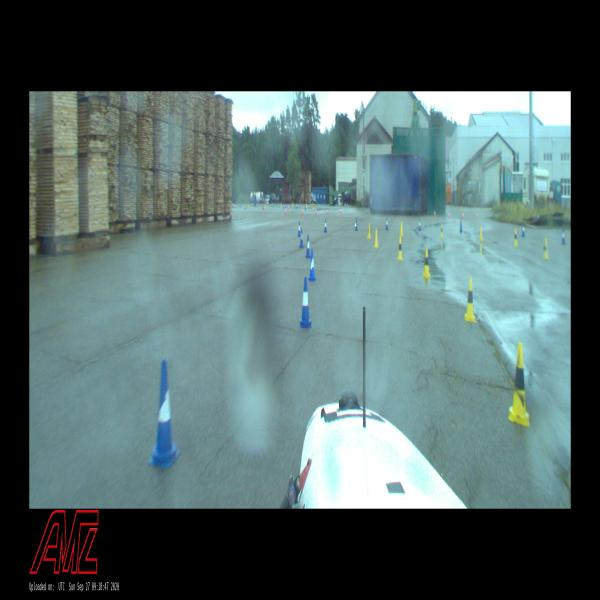blue_cone: (148, 360, 181, 467), (300, 278, 312, 327), (308, 249, 316, 281), (306, 234, 311, 258), (300, 228, 304, 248), (354, 218, 358, 231), (521, 223, 525, 235), (562, 229, 565, 243), (324, 219, 327, 232), (418, 219, 421, 231), (298, 222, 300, 236), (460, 220, 462, 233), (386, 218, 388, 228)
orange_cone: (301, 208, 304, 215), (434, 210, 436, 218), (340, 207, 342, 215), (315, 208, 317, 215), (326, 208, 328, 215)
yellow_cone: (509, 344, 529, 426), (464, 278, 476, 321), (422, 249, 430, 277), (543, 239, 548, 259), (398, 237, 402, 260), (514, 229, 518, 246), (479, 226, 483, 241), (375, 229, 378, 248), (367, 222, 370, 238), (440, 224, 443, 238), (400, 222, 403, 236), (313, 204, 314, 208)
